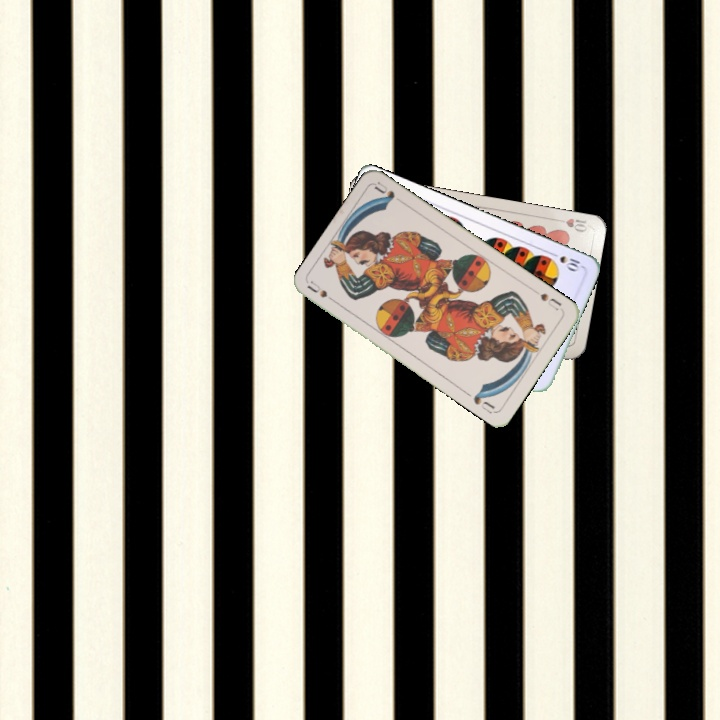H10: (550, 214, 590, 235)
S10: (544, 248, 585, 274)
SU: (304, 277, 342, 307), (530, 286, 564, 313)
